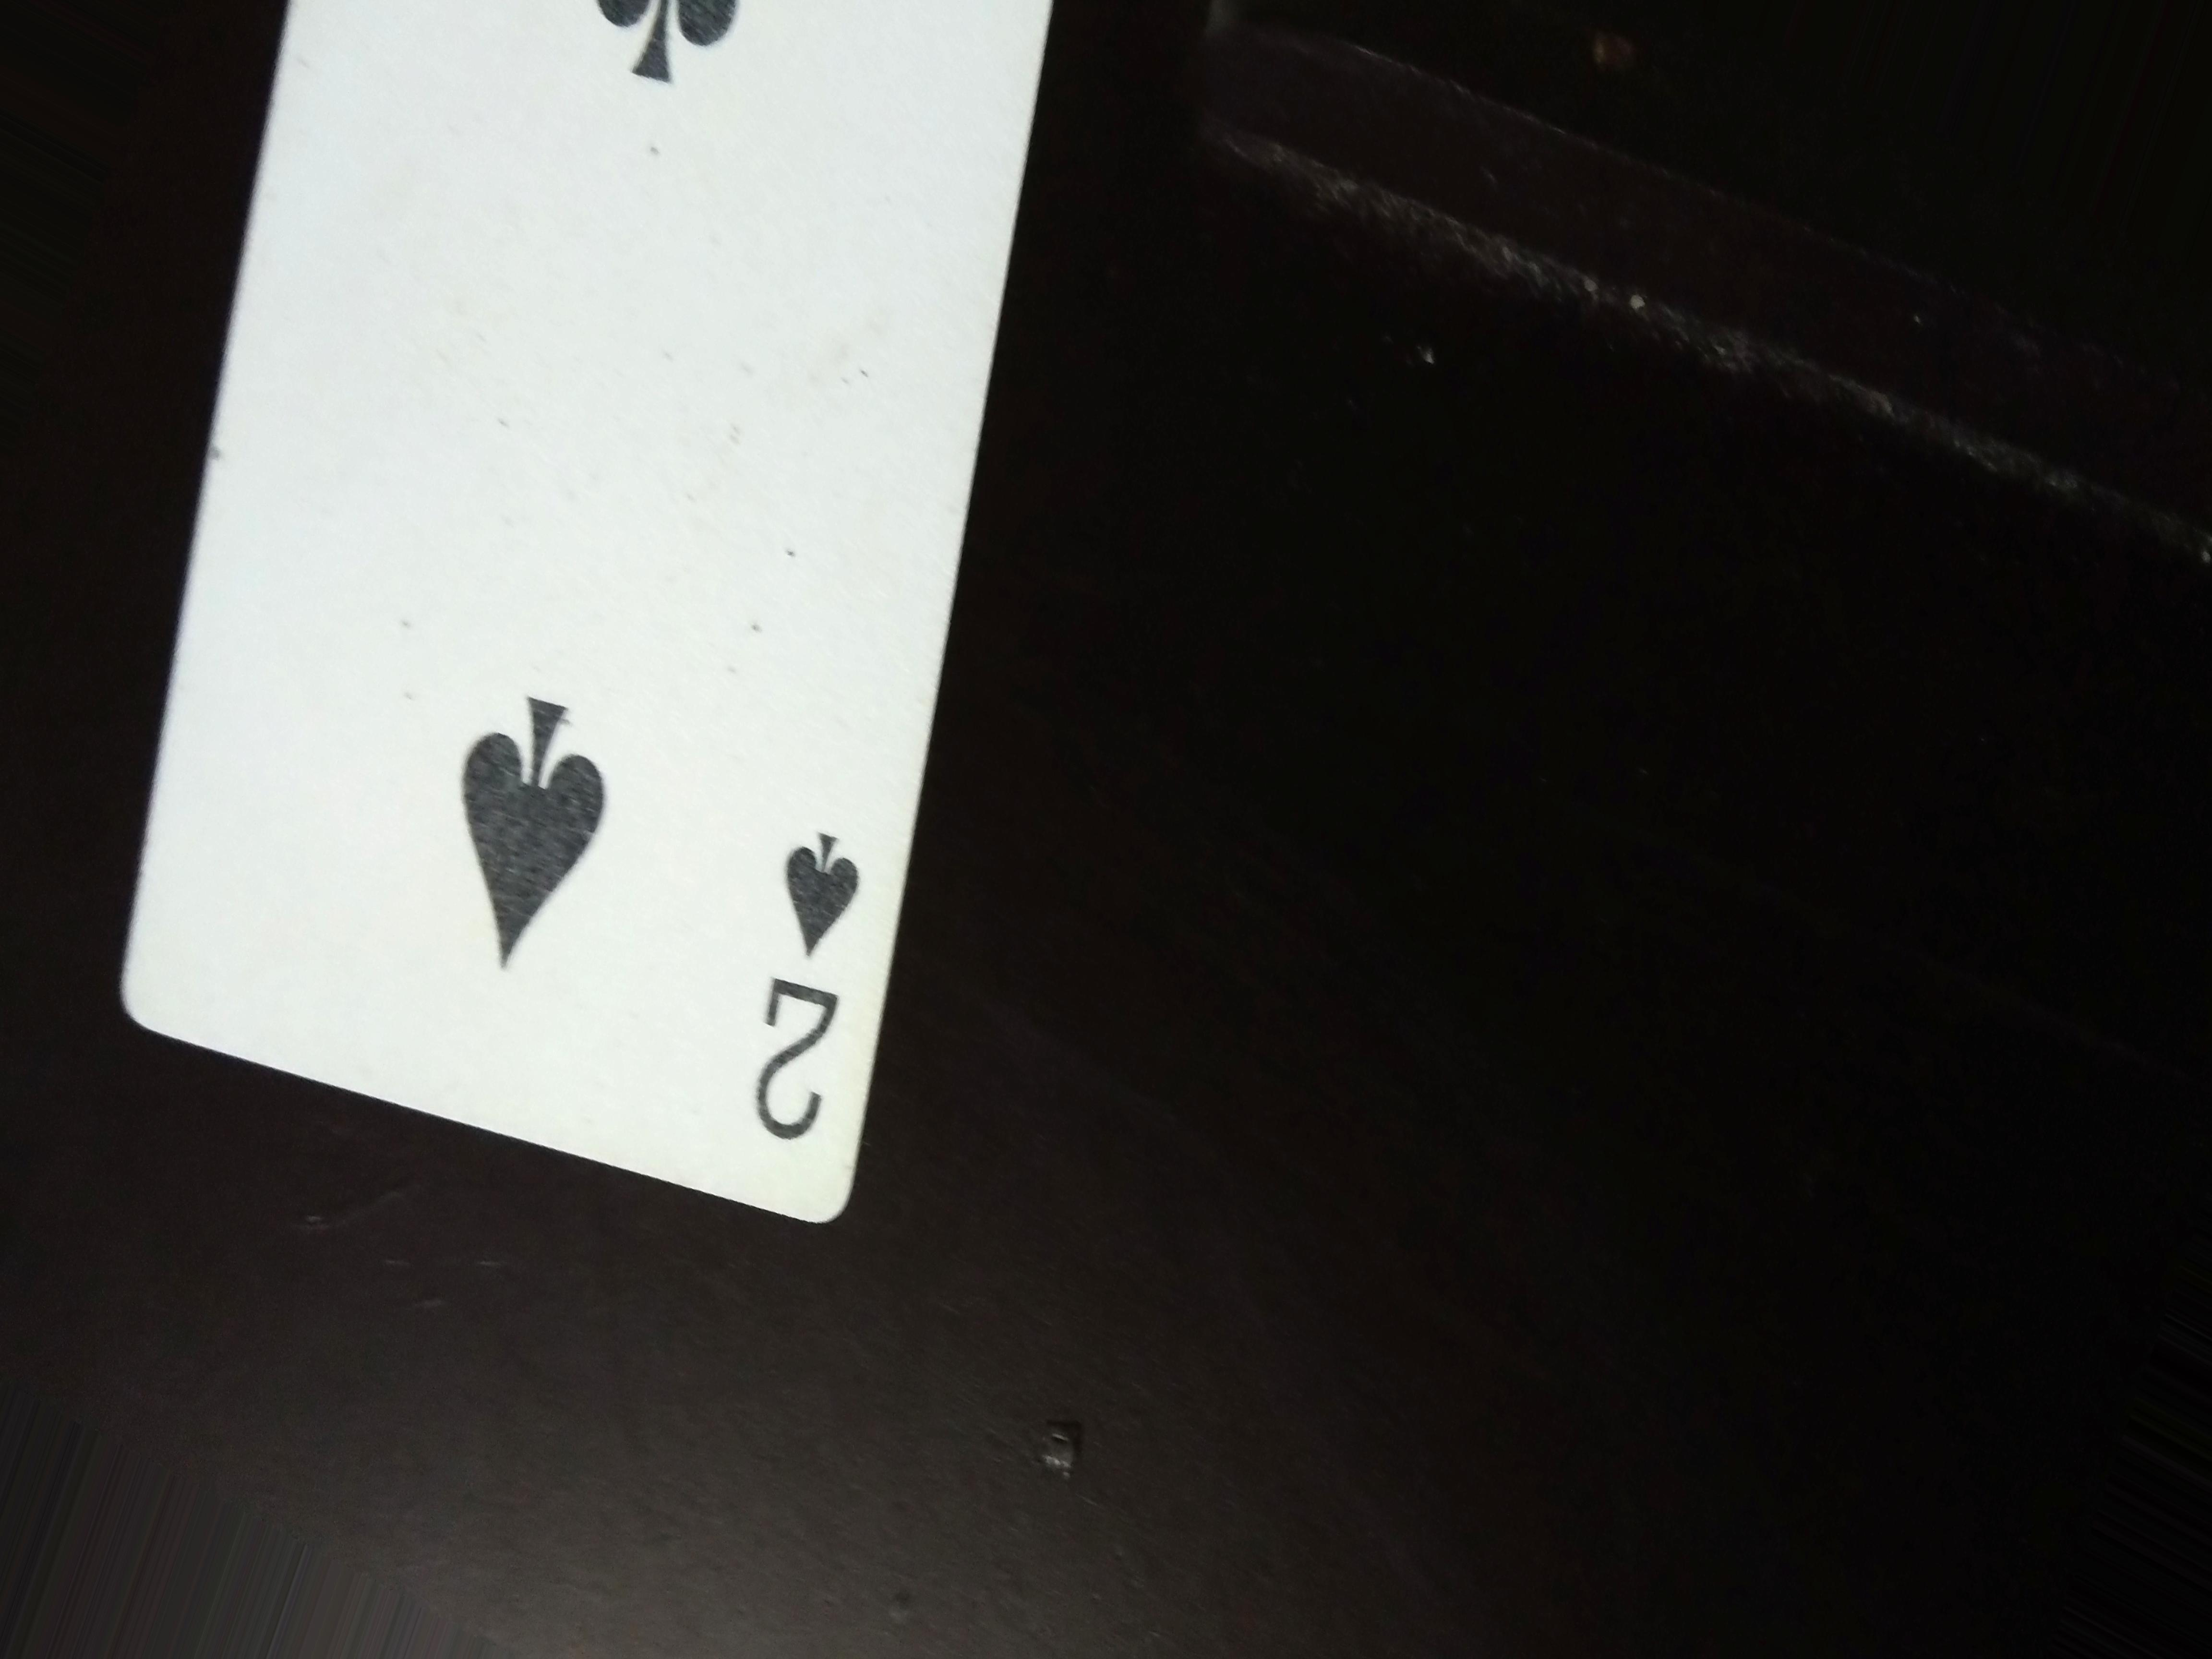2S: (726, 814, 860, 1185)
